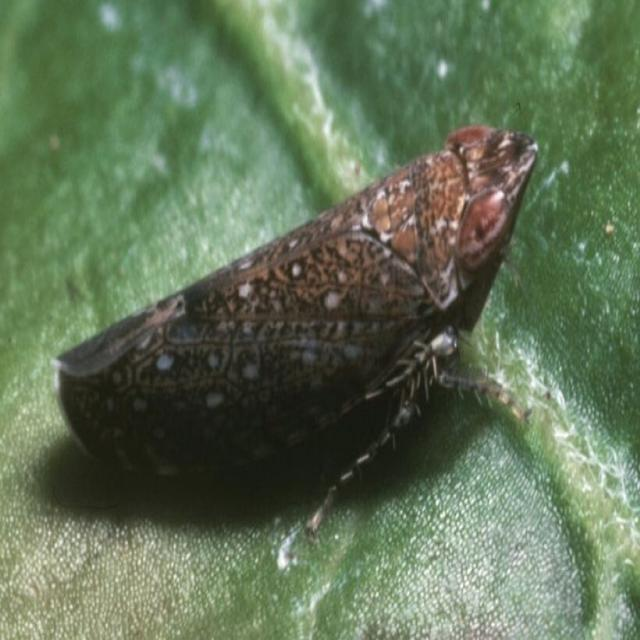Yechan: (50, 117, 557, 533)
